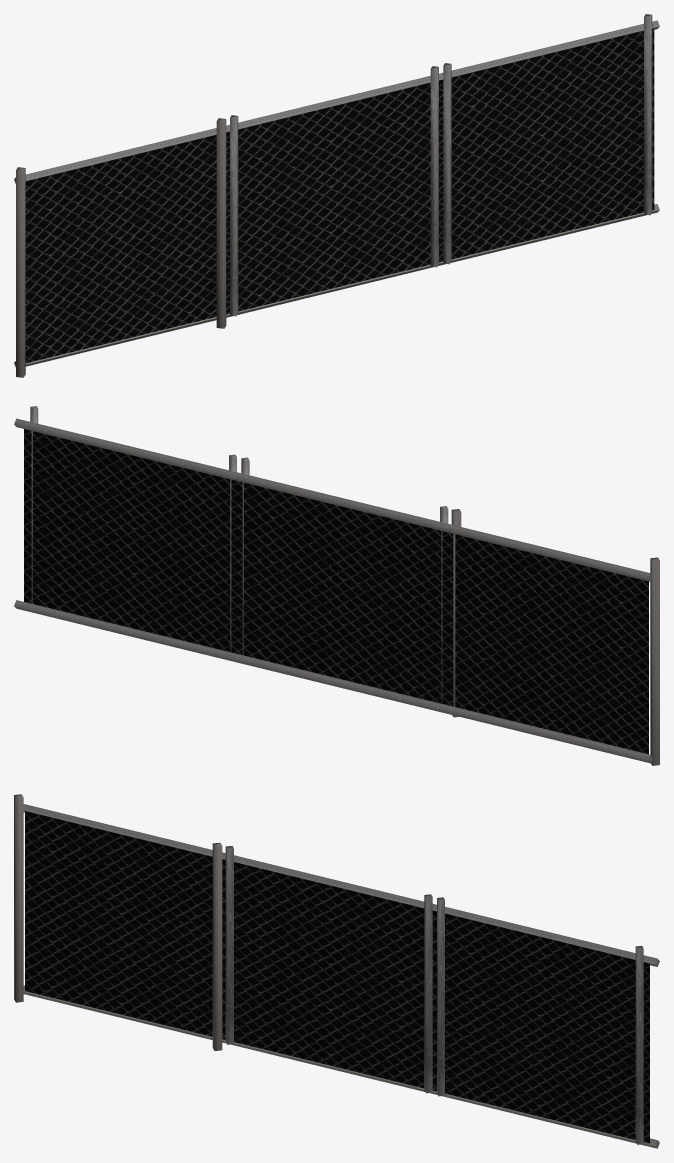
Rendered from metalfence.obj.
The picture shows the model from 3 angles, top to bottom: view 1: azimuth 30°, elevation 25°; view 2: azimuth 150°, elevation 25°; view 3: azimuth 330°, elevation 25°; orthographic projection.
Parts seen in each view (by area): view 1: DYN_MESH_05; view 2: DYN_MESH_05; view 3: DYN_MESH_05.
Boxes of the visible parts, x1=… form: DYN_MESH_05: x1=14, y1=14, x2=659, y2=377; DYN_MESH_05: x1=14, y1=406, x2=659, y2=765; DYN_MESH_05: x1=14, y1=794, x2=659, y2=1148.
Size of the model in its own units: 5.32 by 1.63 by 0.1363.
